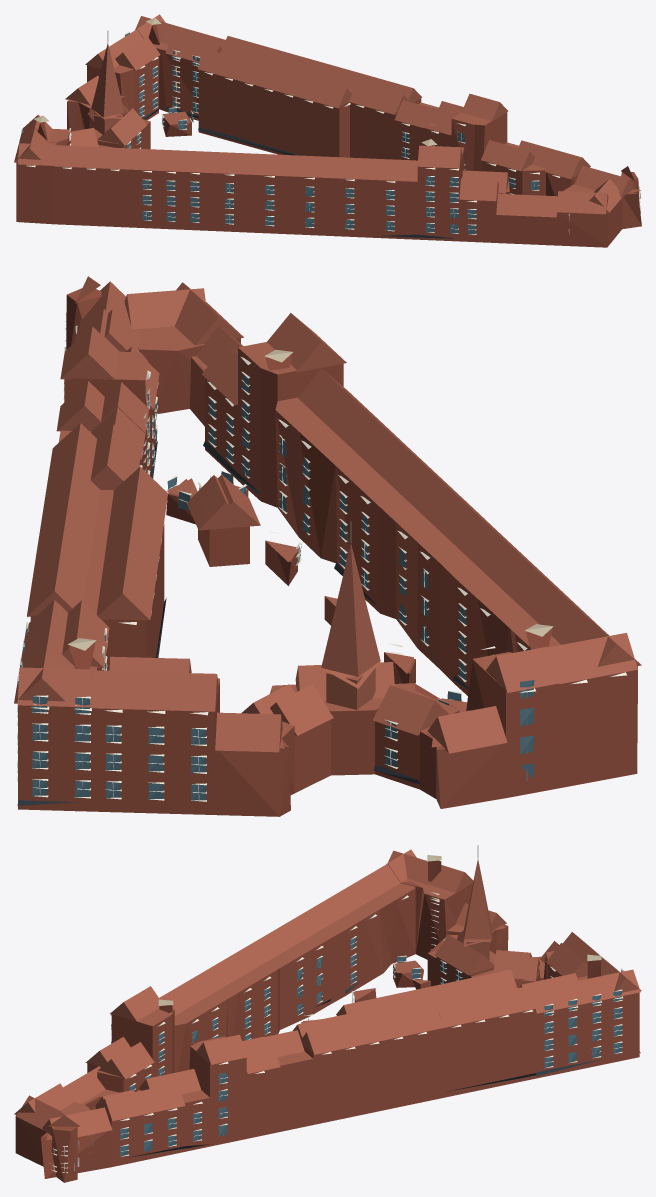
The model's file is het-schip.lod1.glb.
The picture shows the model from 3 angles, top to bottom: view 1: azimuth 30°, elevation 25°; view 2: azimuth 150°, elevation 25°; view 3: azimuth 270°, elevation 25°; orthographic projection. The views are drawn at different scales.
Visible parts, largest first — view 1: het-schip; view 2: het-schip; view 3: het-schip.
Part boxes in pixels (x1,y1,x2,y2): het-schip: [14, 14, 641, 247]; het-schip: [14, 276, 641, 816]; het-schip: [14, 845, 641, 1182].
Size of the model in its own units: 105 by 28.69 by 109.
